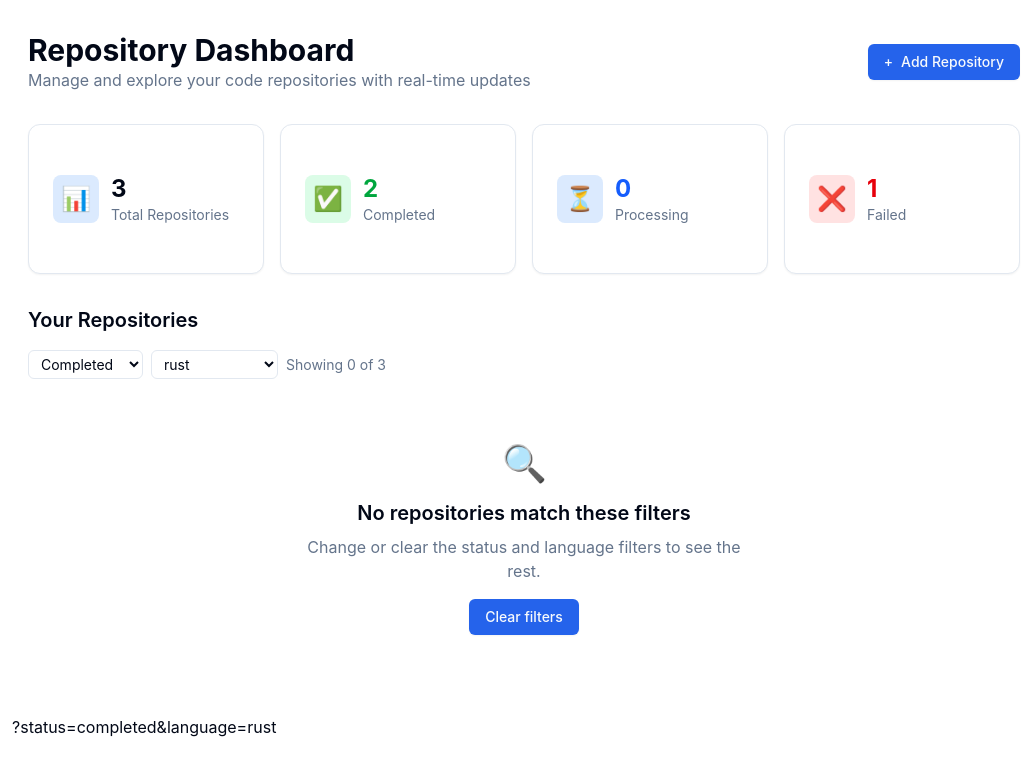
Scenario: DashboardPage › applies filters from the URL and clears them when nothing matches
This screenshot has width=1036, height=768.
Expected: the heading "No repositories match these filters" is shown, [357,501,691,525]
Expected: the dropdown named "Filter by language" shows "rust", [151,350,278,379]
Click the button "Clear filters": (524, 617) [469,599,579,635]
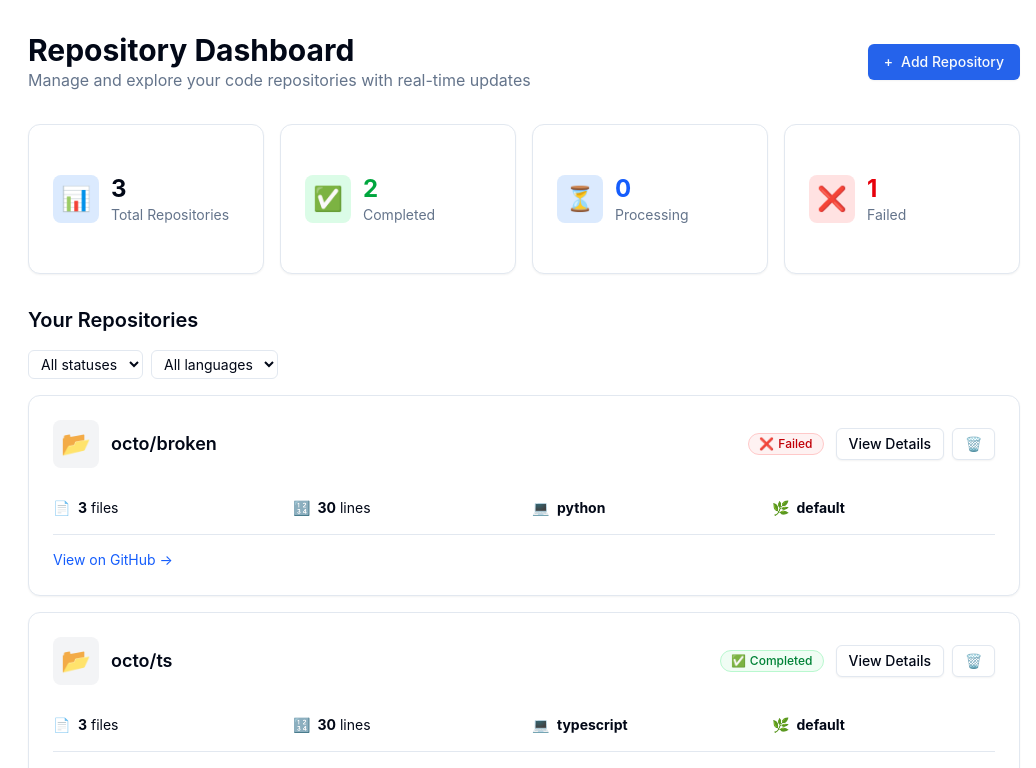
Now the text "octo/ts" is shown, box [111,647,172,675]
